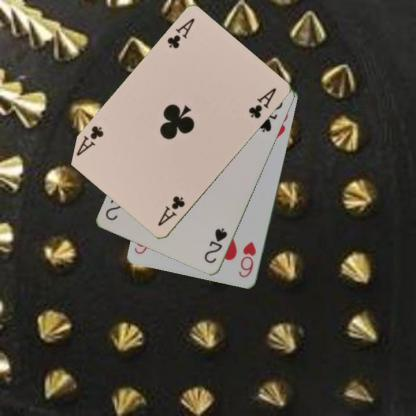2s: (202, 225, 229, 266)
6h: (236, 239, 258, 279)
Ac: (164, 16, 197, 50), (154, 193, 186, 228)
